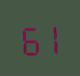one: (40, 20, 60, 54)
six: (19, 21, 39, 56)
